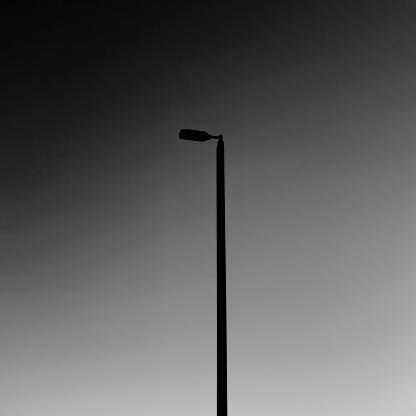light_pole: (177, 129, 228, 415)
